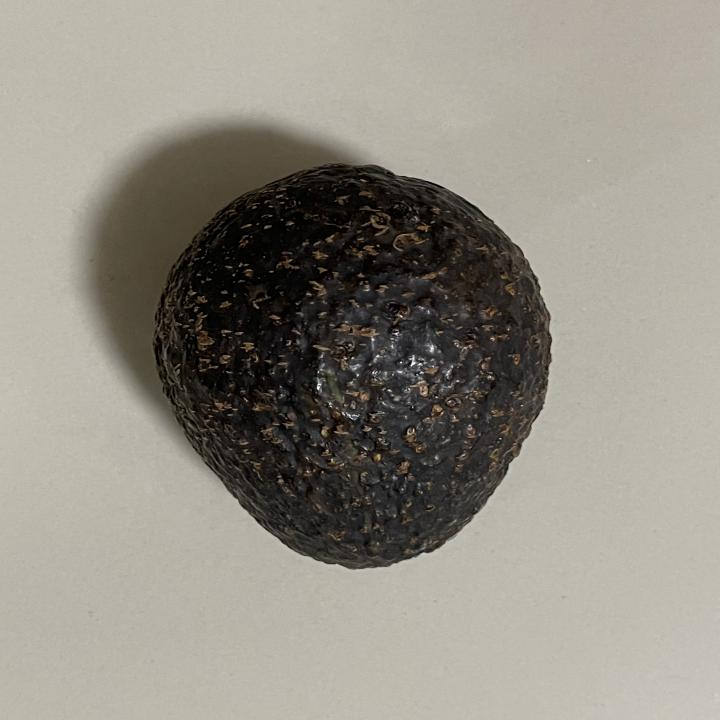Level3: (140, 153, 566, 583)
